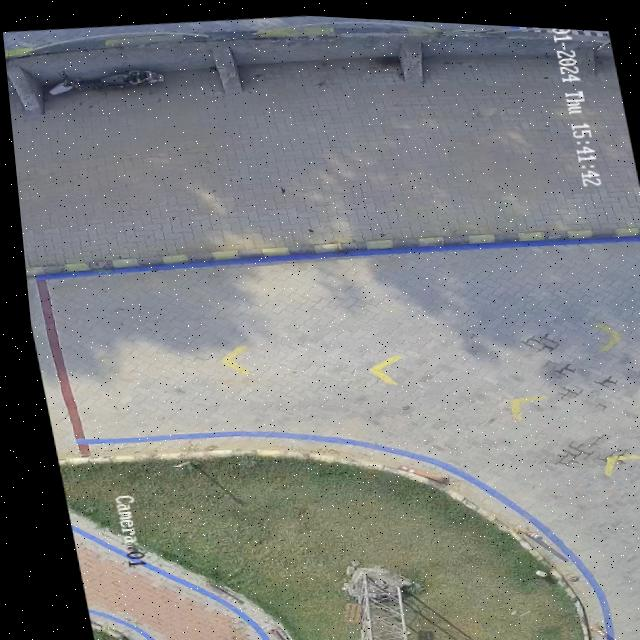No Car: (2, 12, 640, 640)
